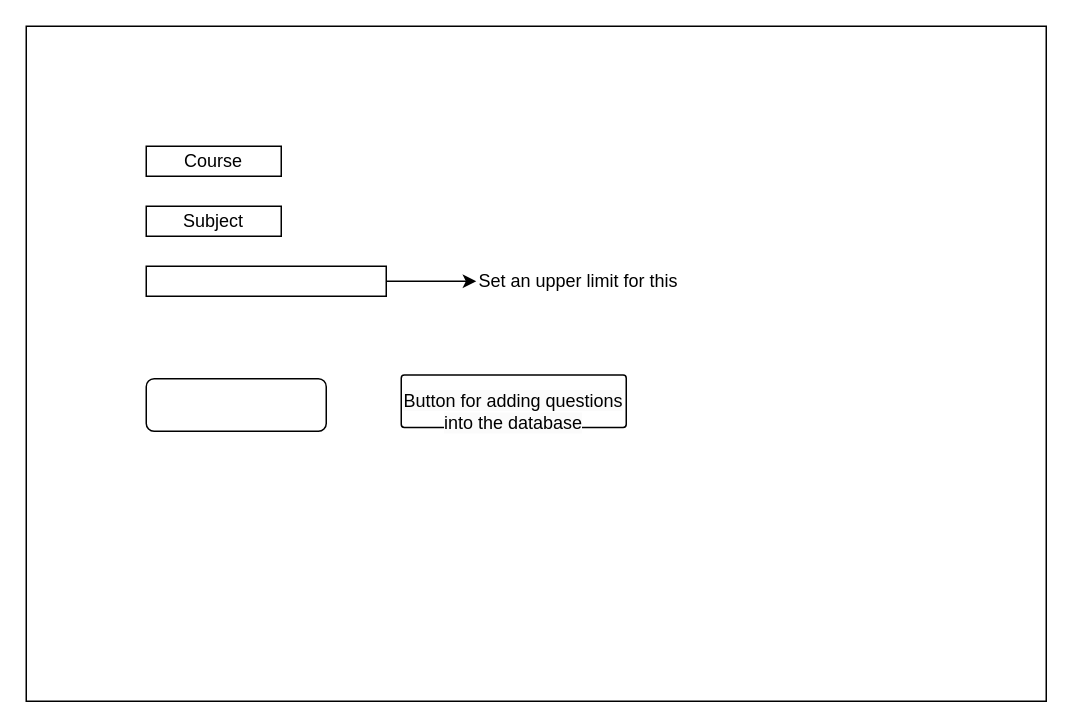
Image size: 1073x728. Some labels were removed from this diagram. The shapes that lost their labels are listed below. From the top down, each one's centre as x and y in pixels, then its label:
At (x=265, y=280): "NO. of question text box".
At (x=235, y=404): "Button for generating QP".
